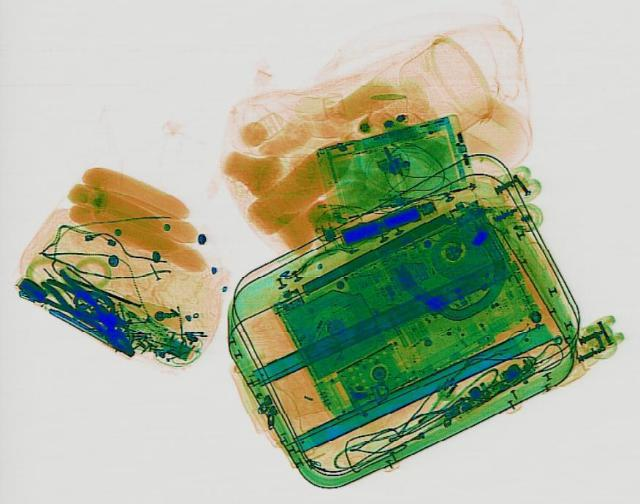Pliers: (37, 265, 145, 362), (27, 273, 135, 335)
